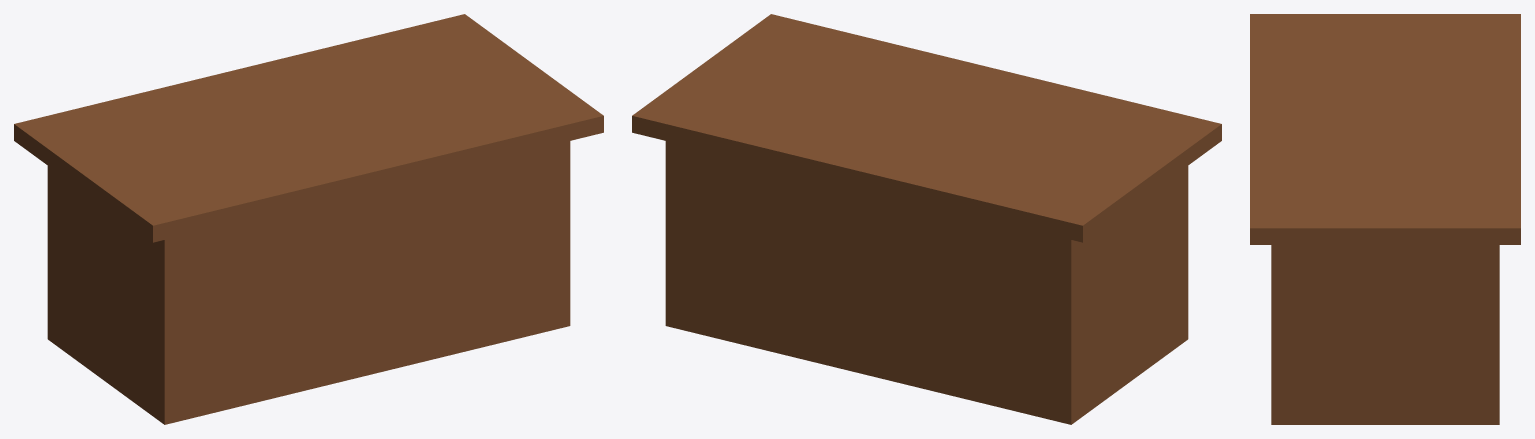
The model's file is Stall_001.glb.
3 views of the same model, side by side, from view 1: azimuth 30°, elevation 25°; view 2: azimuth 150°, elevation 25°; view 3: azimuth 270°, elevation 25° (orthographic). The views are drawn at different scales.
Parts seen in each view (by area): view 1: Stall.001; view 2: Stall.001; view 3: Stall.001.
Part boxes in pixels (x1,y1,x2,y2): Stall.001: [14, 14, 603, 424]; Stall.001: [632, 14, 1221, 424]; Stall.001: [1250, 14, 1520, 424].
Bounding box in the file's own units: 2.22 × 1 × 1.19.
